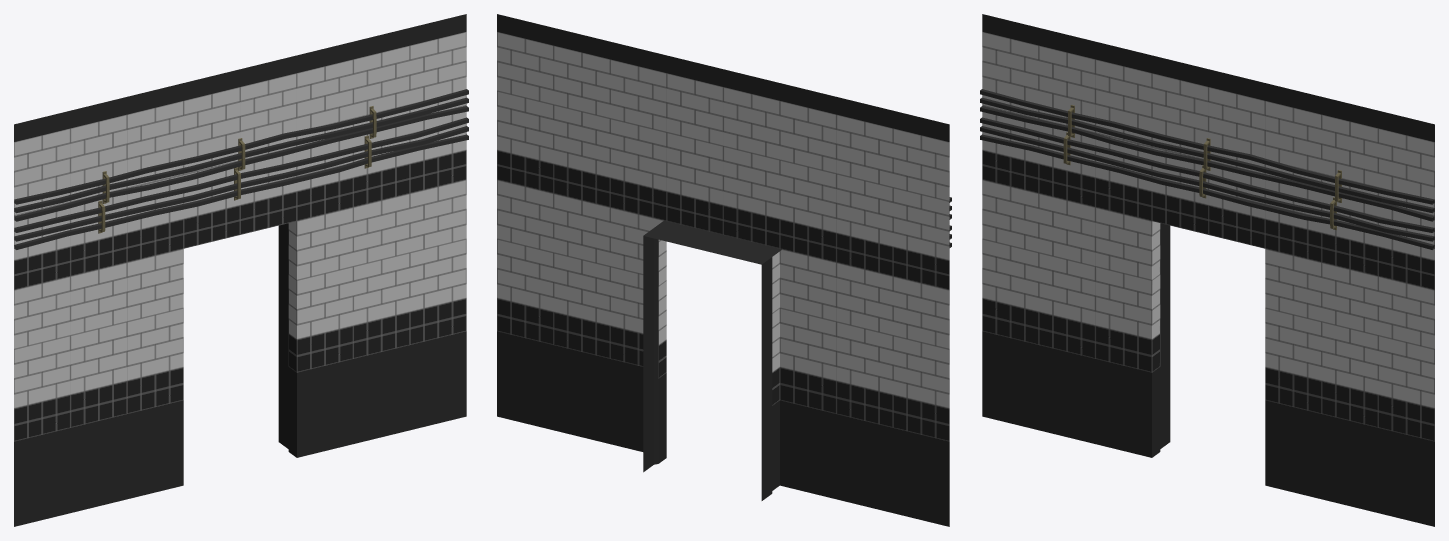
File: SW_ENV_StationTunnel_Wall_A_03b_05m_FF.fbx
3 renders of one model, left to right at view 1: azimuth 30°, elevation 25°; view 2: azimuth 150°, elevation 25°; view 3: azimuth 330°, elevation 25°, orthographic.
Parts seen in each view (by area): view 1: SW_ENV_StationTunnel_Wall_A_03b_05m_FF; view 2: SW_ENV_StationTunnel_Wall_A_03b_05m_FF; view 3: SW_ENV_StationTunnel_Wall_A_03b_05m_FF.
Boxes of the visible parts, box(x1,y1,x2,y2) form: SW_ENV_StationTunnel_Wall_A_03b_05m_FF: box(14, 14, 468, 526); SW_ENV_StationTunnel_Wall_A_03b_05m_FF: box(497, 14, 951, 526); SW_ENV_StationTunnel_Wall_A_03b_05m_FF: box(980, 14, 1434, 526).
Bounding box in the file's own units: 500 × 425 × 47.06.
